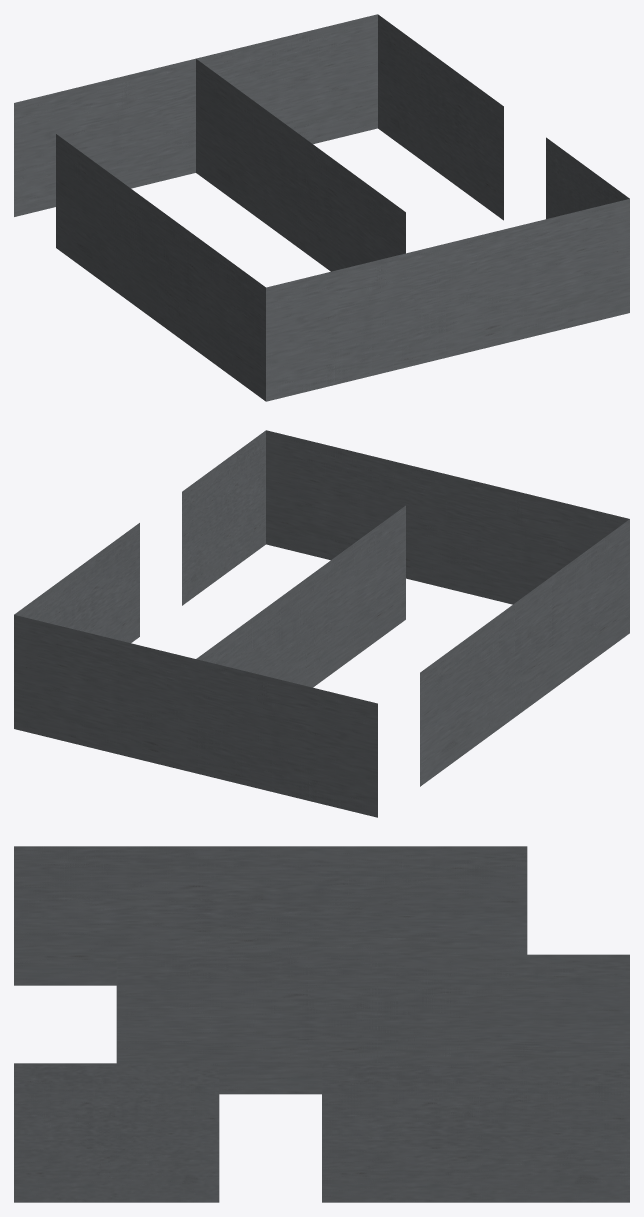
The model's file is Stage4.obj.
3 renders of one model, top to bottom at view 1: azimuth 30°, elevation 25°; view 2: azimuth 150°, elevation 25°; view 3: azimuth 270°, elevation 25°, orthographic. The views are drawn at different scales.
Visible parts, largest first — view 1: Cube.003, Cube.004, Cube, Cube.005, Cube.001, Cube.002; view 2: Cube.004, Cube.003, Cube, Cube.005, Cube.002, Cube.001; view 3: Cube.005, Cube, Cube.001, Cube.002.
Boxes of the visible parts, <box> form: Cube.003: <box>266,199,629,401</box>; Cube.004: <box>14,14,377,216</box>; Cube: <box>56,134,265,401</box>; Cube.005: <box>196,59,405,271</box>; Cube.001: <box>378,14,503,220</box>; Cube.002: <box>546,137,629,218</box>; Cube.004: <box>14,615,377,817</box>; Cube.003: <box>266,430,629,604</box>; Cube: <box>420,519,629,786</box>; Cube.005: <box>196,505,405,687</box>; Cube.002: <box>182,430,265,605</box>; Cube.001: <box>14,523,139,643</box>; Cube.005: <box>116,954,629,1094</box>; Cube: <box>14,846,527,985</box>; Cube.001: <box>322,1063,629,1202</box>; Cube.002: <box>14,1063,219,1202</box>.
Size of the model in its own units: 20 by 6 by 24.
6 materials, 6 textured.
